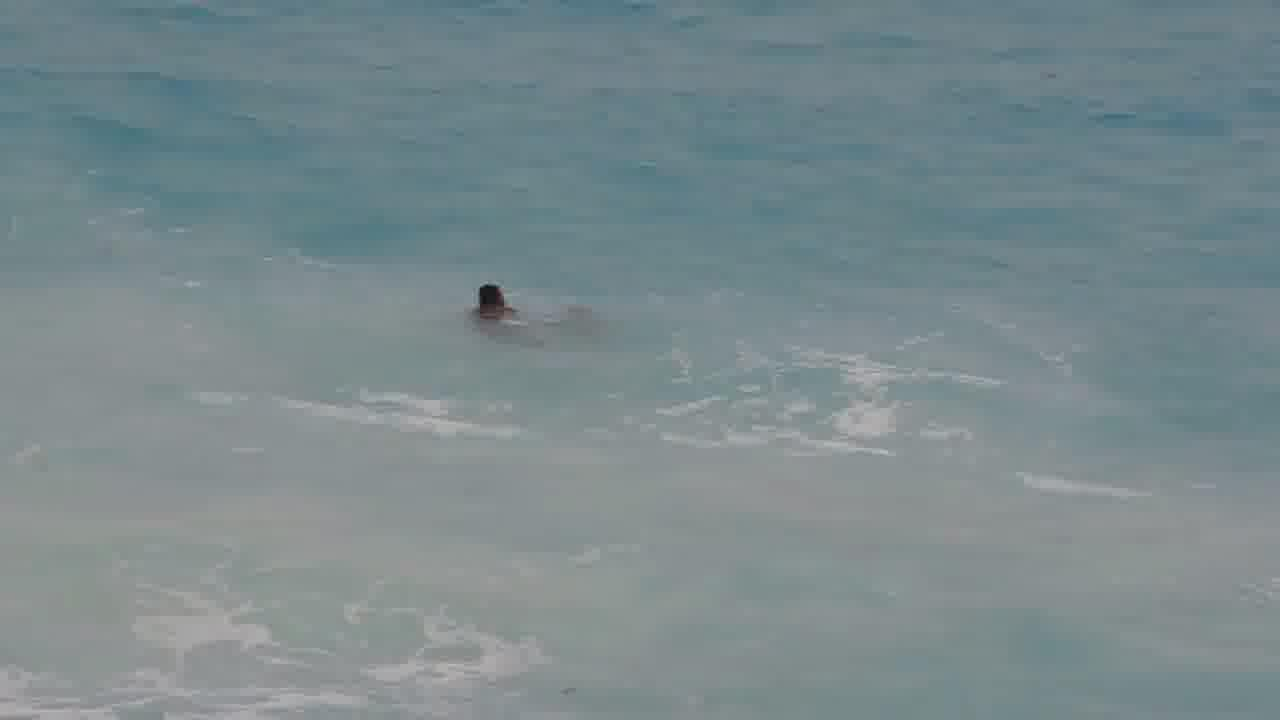swimmer: (463, 275, 530, 327)
